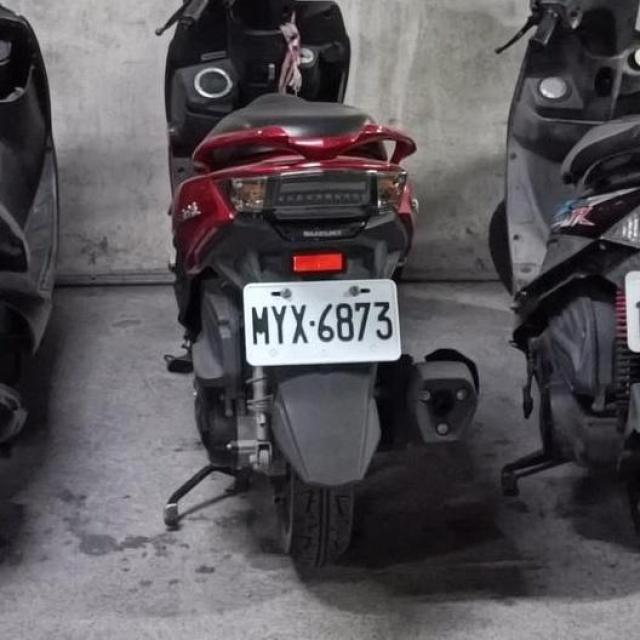W: (238, 274, 404, 370), (616, 264, 640, 359)
